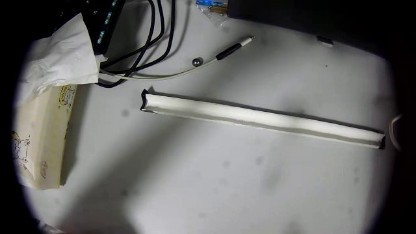gangzhu: (190, 56, 202, 66)
